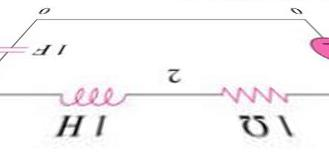inductor: (49, 79, 134, 110)
